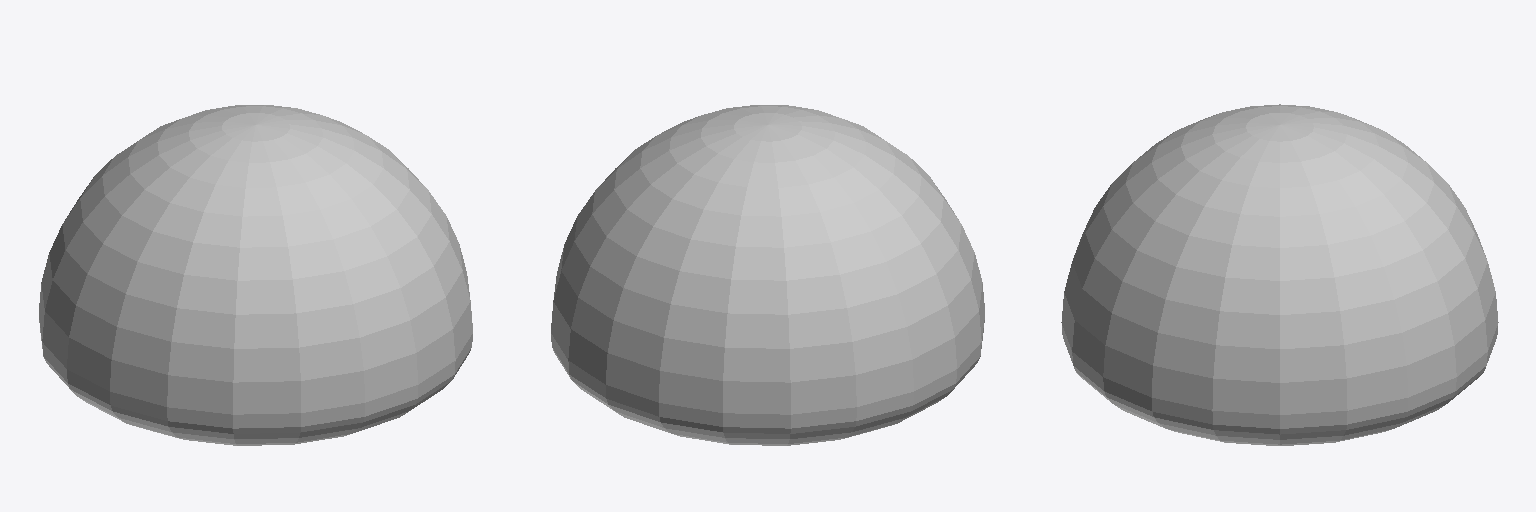
Rendered from Tavern Model OBJ.obj.
3 renders of one model, left to right at view 1: azimuth 30°, elevation 25°; view 2: azimuth 150°, elevation 25°; view 3: azimuth 270°, elevation 25°, orthographic.
Parts seen in each view (by area): view 1: Sky sky, sky ground1; view 2: Sky sky, sky ground1; view 3: Sky sky, sky ground1.
Boxes of the visible parts, x1,y1,x2,y2 form: Sky sky: [39, 105, 472, 414]; sky ground1: [39, 320, 472, 445]; Sky sky: [551, 105, 984, 414]; sky ground1: [551, 320, 984, 445]; Sky sky: [1061, 104, 1498, 414]; sky ground1: [1062, 326, 1497, 445].
Size of the model in its own units: 100 by 66.32 by 100.